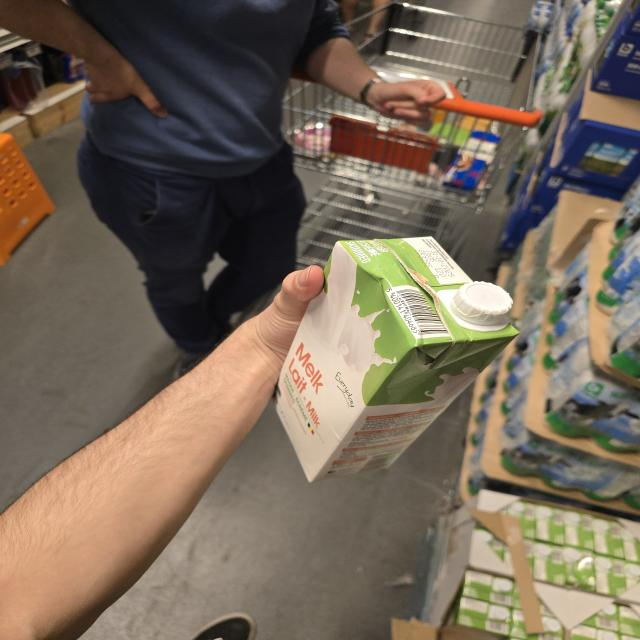Milk: (270, 236, 518, 484)
